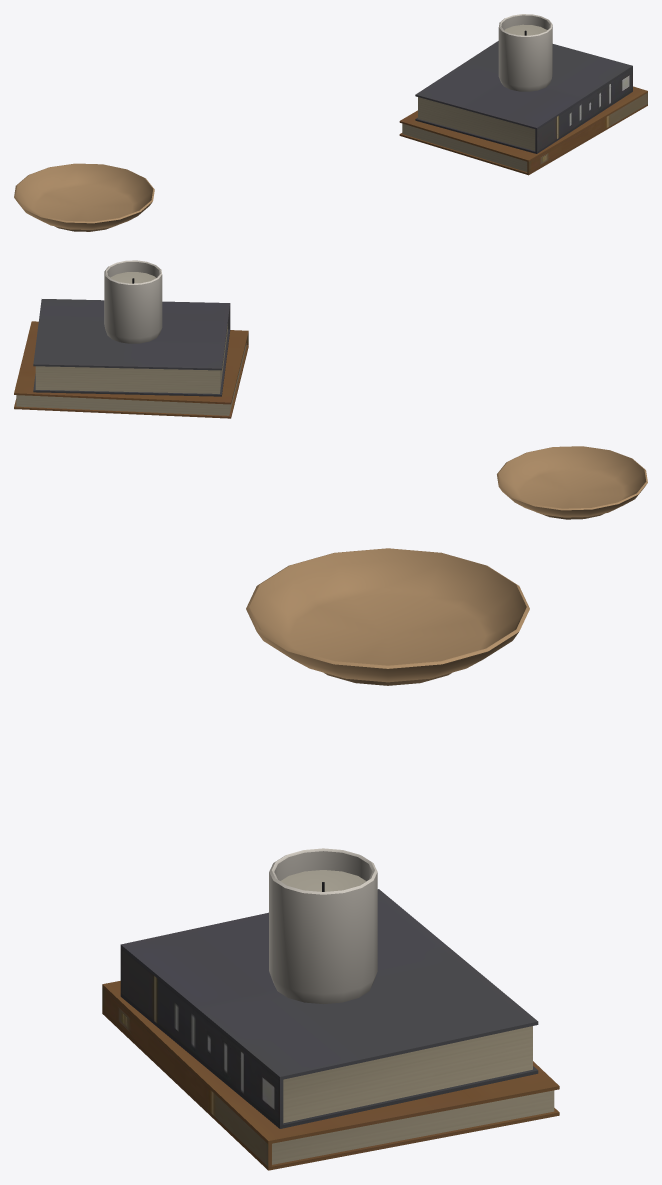
The model's file is decor_a_table_round_powder.gltf.
The picture shows the model from 3 angles, top to bottom: view 1: azimuth 30°, elevation 25°; view 2: azimuth 150°, elevation 25°; view 3: azimuth 270°, elevation 25°; orthographic projection. The views are drawn at different scales.
Parts seen in each view (by area): view 1: DecorATableRoundPowder_spines_NoCollide, DecorATableRoundPowder_bronze_NoCollide, DecorATableRoundPowder_stoneware_NoCollide, DecorATableRoundPowder_candle_NoCollide; view 2: DecorATableRoundPowder_spines_NoCollide, DecorATableRoundPowder_bronze_NoCollide, DecorATableRoundPowder_stoneware_NoCollide, DecorATableRoundPowder_candle_NoCollide; view 3: DecorATableRoundPowder_spines_NoCollide, DecorATableRoundPowder_bronze_NoCollide, DecorATableRoundPowder_stoneware_NoCollide, DecorATableRoundPowder_candle_NoCollide.
Boxes of the visible parts, <box> form: DecorATableRoundPowder_spines_NoCollide: <box>399,41,647,175</box>; DecorATableRoundPowder_bronze_NoCollide: <box>14,163,154,231</box>; DecorATableRoundPowder_stoneware_NoCollide: <box>498,14,552,91</box>; DecorATableRoundPowder_candle_NoCollide: <box>504,24,546,35</box>; DecorATableRoundPowder_spines_NoCollide: <box>14,299,248,418</box>; DecorATableRoundPowder_bronze_NoCollide: <box>497,446,647,519</box>; DecorATableRoundPowder_stoneware_NoCollide: <box>104,260,162,343</box>; DecorATableRoundPowder_candle_NoCollide: <box>110,272,155,283</box>; DecorATableRoundPowder_spines_NoCollide: <box>102,889,559,1170</box>; DecorATableRoundPowder_bronze_NoCollide: <box>246,548,529,685</box>; DecorATableRoundPowder_stoneware_NoCollide: <box>269,848,377,1004</box>; DecorATableRoundPowder_candle_NoCollide: <box>280,870,365,891</box>.
Bounding box in the file's own units: 1.06 × 0.1662 × 0.3539.
5 materials, 1 textured.
